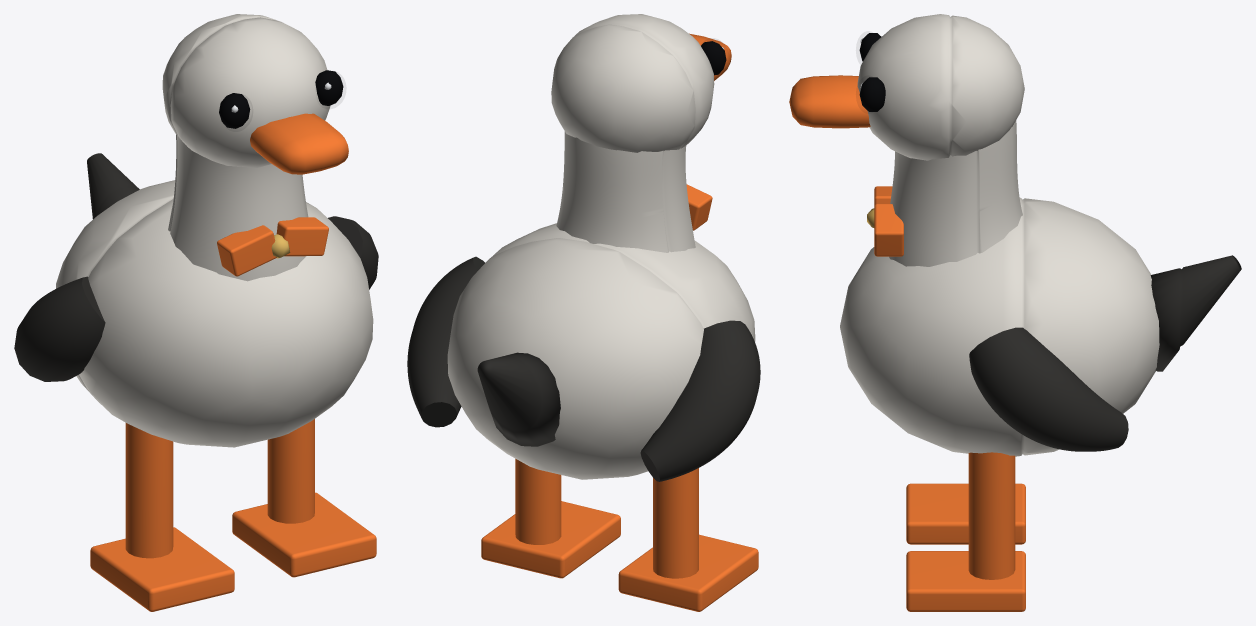
File: goose.glb
The picture shows the model from 3 angles, left to right: view 1: azimuth 30°, elevation 25°; view 2: azimuth 150°, elevation 25°; view 3: azimuth 270°, elevation 25°; orthographic projection. The views are drawn at different scales.
Visible parts, largest first — view 1: Body, Leg_L, Leg_R, Arm_L, Accessory, Arm_R; view 2: Body, Arm_L, Leg_L, Leg_R, Arm_R, Accessory; view 3: Body, Leg_R, Arm_R, Leg_L, Accessory.
Part boxes in pixels (x1=…): Body: x1=56, y1=14, x2=373, y2=447; Leg_L: x1=90, y1=423, x2=234, y2=611; Leg_R: x1=232, y1=419, x2=376, y2=577; Arm_L: x1=14, y1=276, x2=105, y2=381; Accessory: x1=217, y1=217, x2=328, y2=276; Arm_R: x1=328, y1=216, x2=378, y2=289; Body: x1=447, y1=14, x2=755, y2=479; Arm_L: x1=640, y1=320, x2=760, y2=481; Leg_L: x1=618, y1=468, x2=758, y2=611; Leg_R: x1=481, y1=458, x2=620, y2=578; Arm_R: x1=407, y1=256, x2=484, y2=427; Accessory: x1=686, y1=184, x2=712, y2=230; Body: x1=789, y1=14, x2=1241, y2=456; Leg_R: x1=906, y1=452, x2=1025, y2=611; Arm_R: x1=969, y1=327, x2=1128, y2=451; Leg_L: x1=906, y1=483, x2=1025, y2=544; Accessory: x1=867, y1=186, x2=903, y2=256.
Size of the model in its own units: 0.6725 by 1.04 by 0.7936.
